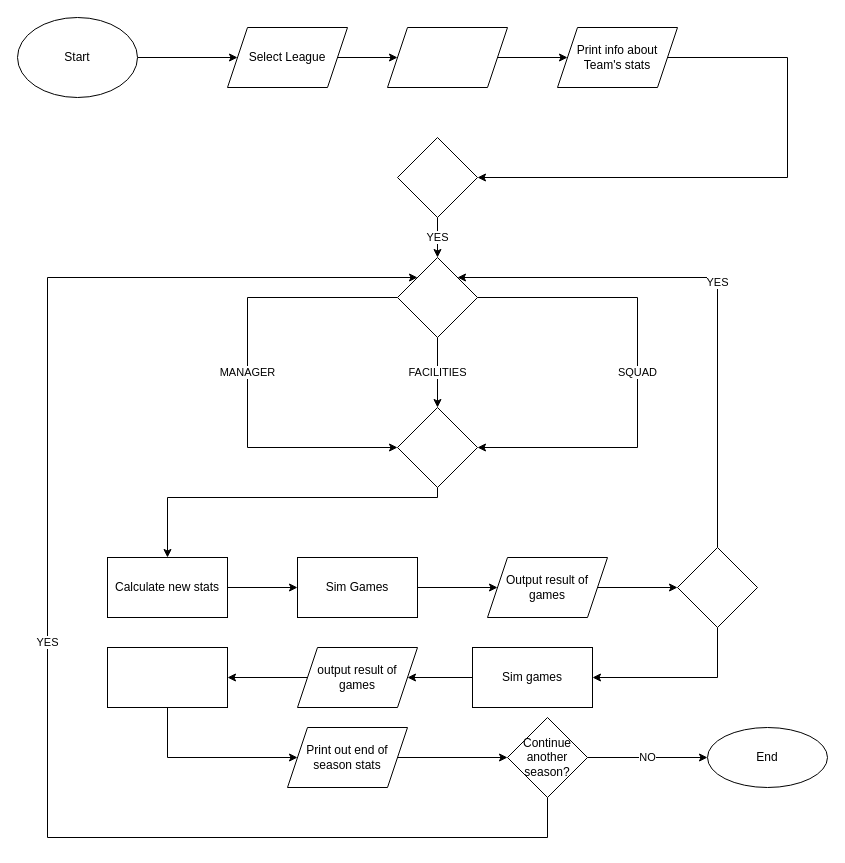
Some shapes in this 845 by 863 pixel diagram are drawn without their labels. The centre of each missing label's shape, as x and y in pixels:
Calculate finish position.: point (167, 677)
How much?: point (437, 447)
Jan Window?: point (717, 587)
Season to start, invest?: point (437, 177)
Select Team: point (447, 57)
What do you want to invest in?: point (437, 297)
